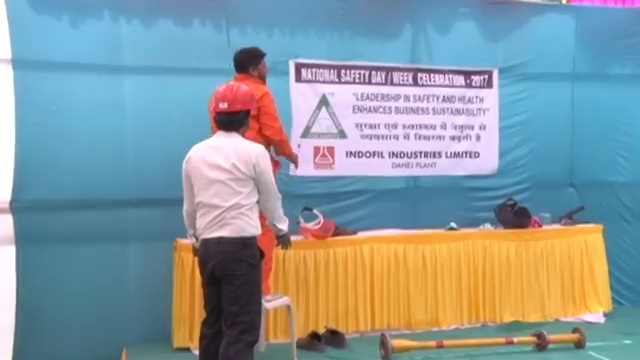helmet: (211, 79, 256, 113)
helmet_off: (232, 45, 269, 88)
helmet_on: (210, 80, 256, 136)
person: (178, 78, 280, 360), (209, 43, 307, 300)
